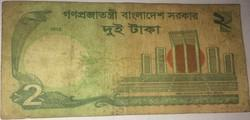2 taka: (3, 2, 249, 111)
